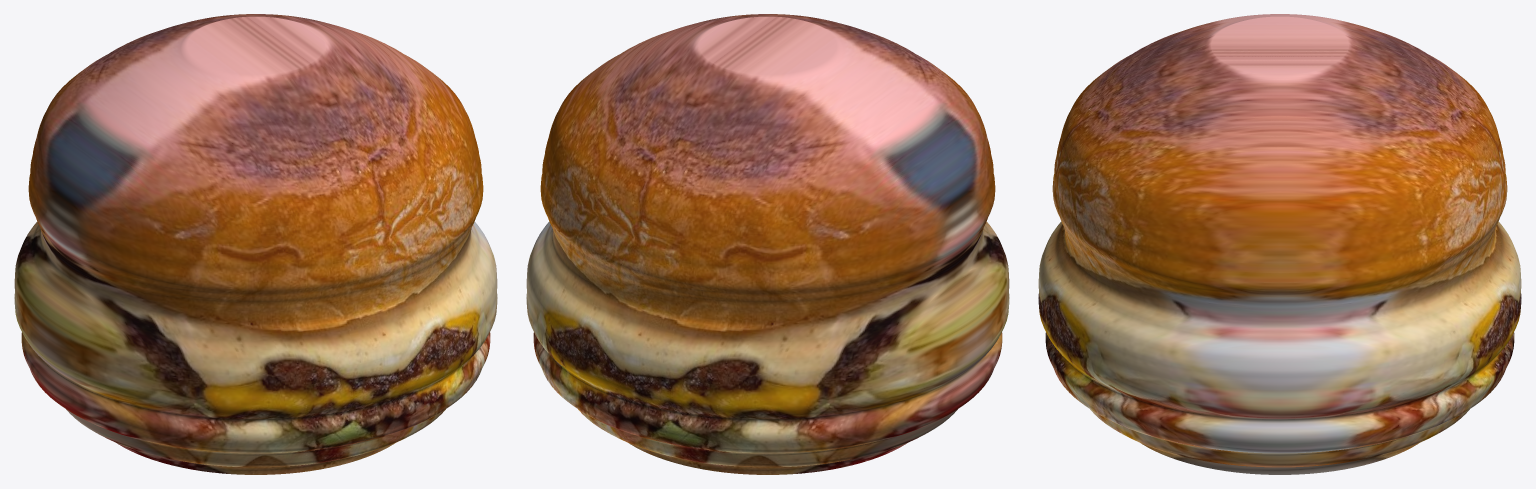
The model's file is bacon-cheese.glb.
The picture shows the model from 3 angles, left to right: view 1: azimuth 30°, elevation 25°; view 2: azimuth 150°, elevation 25°; view 3: azimuth 270°, elevation 25°; orthographic projection.
Visible parts, largest first — view 1: Dish; view 2: Dish; view 3: Dish.
Boxes of the visible parts, x1,y1,x2,y2 form: Dish: (14, 14, 497, 474); Dish: (526, 14, 1009, 474); Dish: (1038, 14, 1521, 474).
Size of the model in its own units: 0.11 by 0.0902 by 0.11.
2 materials, 1 textured.
